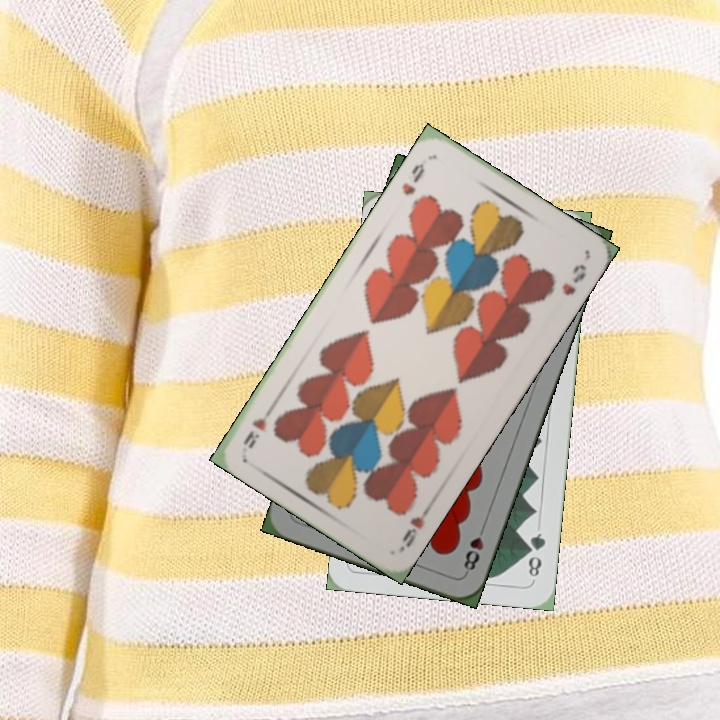G8: (523, 529, 549, 580)
H8: (459, 520, 488, 577)
H9: (396, 501, 434, 553), (398, 159, 428, 199)
